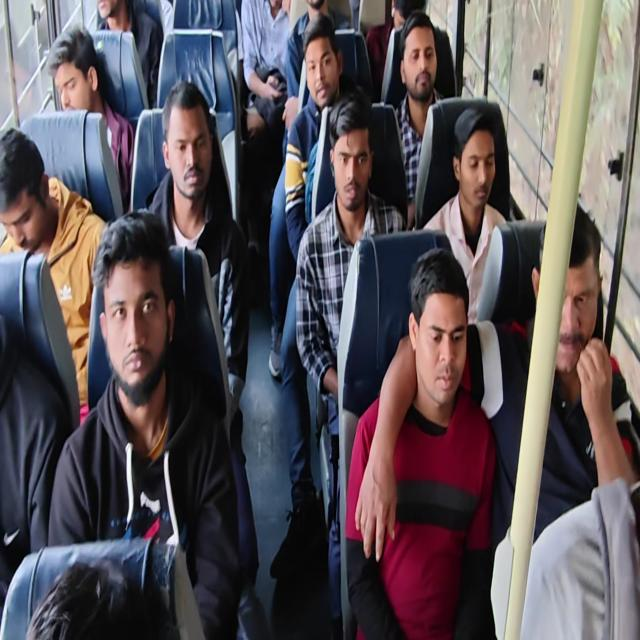person: (1, 1, 638, 638), (361, 202, 638, 636), (46, 208, 242, 638), (294, 90, 407, 635), (344, 246, 497, 638), (494, 202, 638, 550), (269, 10, 355, 578), (143, 79, 250, 418), (0, 127, 108, 425), (421, 106, 508, 325), (284, 13, 352, 261), (46, 24, 135, 211), (25, 556, 181, 639), (394, 10, 445, 227), (283, 0, 351, 125), (95, 0, 163, 108), (240, 0, 292, 139), (365, 0, 426, 104)
